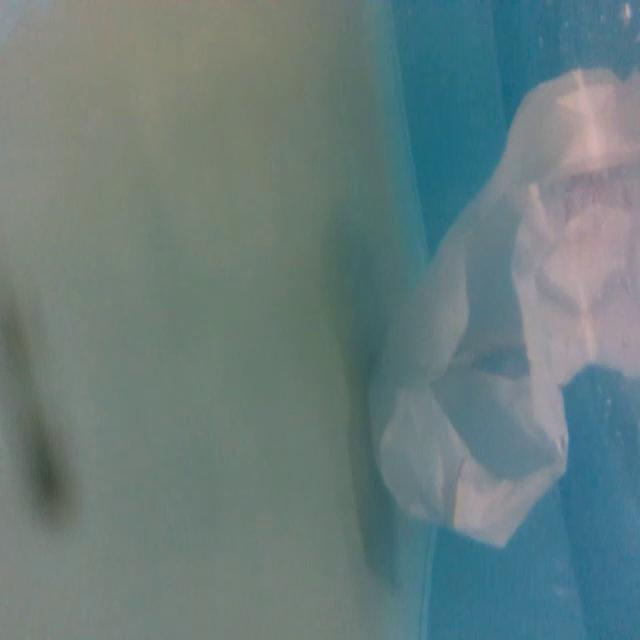plastic bags: (365, 63, 639, 553)
